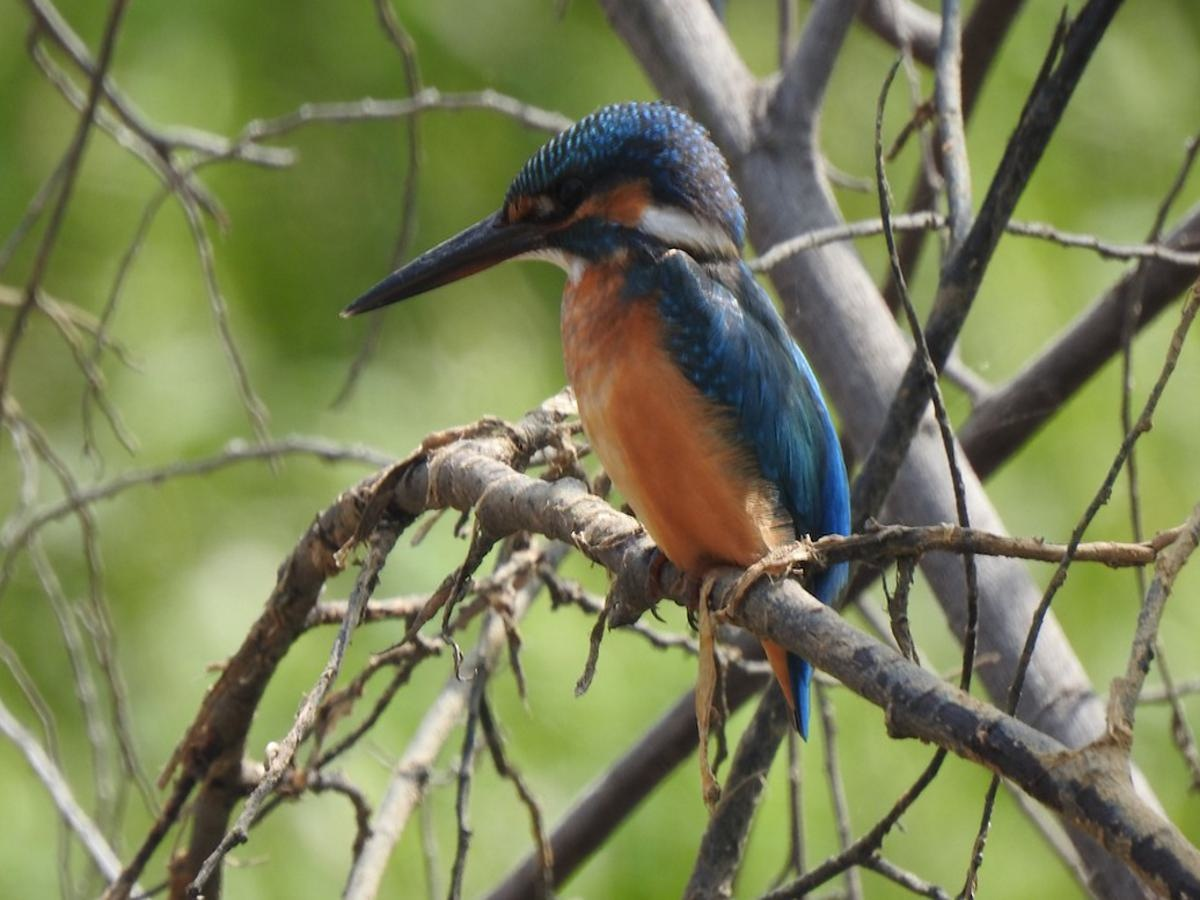kingfisher: (353, 103, 891, 707)
